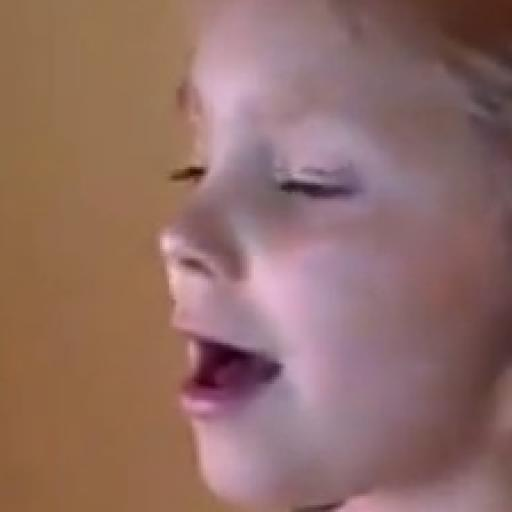Autism: (110, 5, 512, 512)
